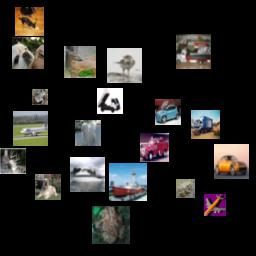airplane: (13, 111, 48, 146), (204, 194, 226, 216)
automobile: (214, 144, 249, 179), (155, 99, 181, 125)
bird: (107, 48, 142, 83)
deer: (64, 46, 96, 78), (0, 148, 26, 174)
dog: (12, 37, 44, 69), (15, 7, 44, 36), (75, 120, 101, 146), (35, 174, 61, 200)
frog: (92, 206, 130, 244), (176, 179, 195, 198), (32, 89, 48, 105)
ship: (109, 163, 147, 201), (70, 157, 105, 192)
truck: (176, 34, 211, 69), (140, 133, 169, 162), (191, 110, 220, 139), (97, 88, 123, 114)
